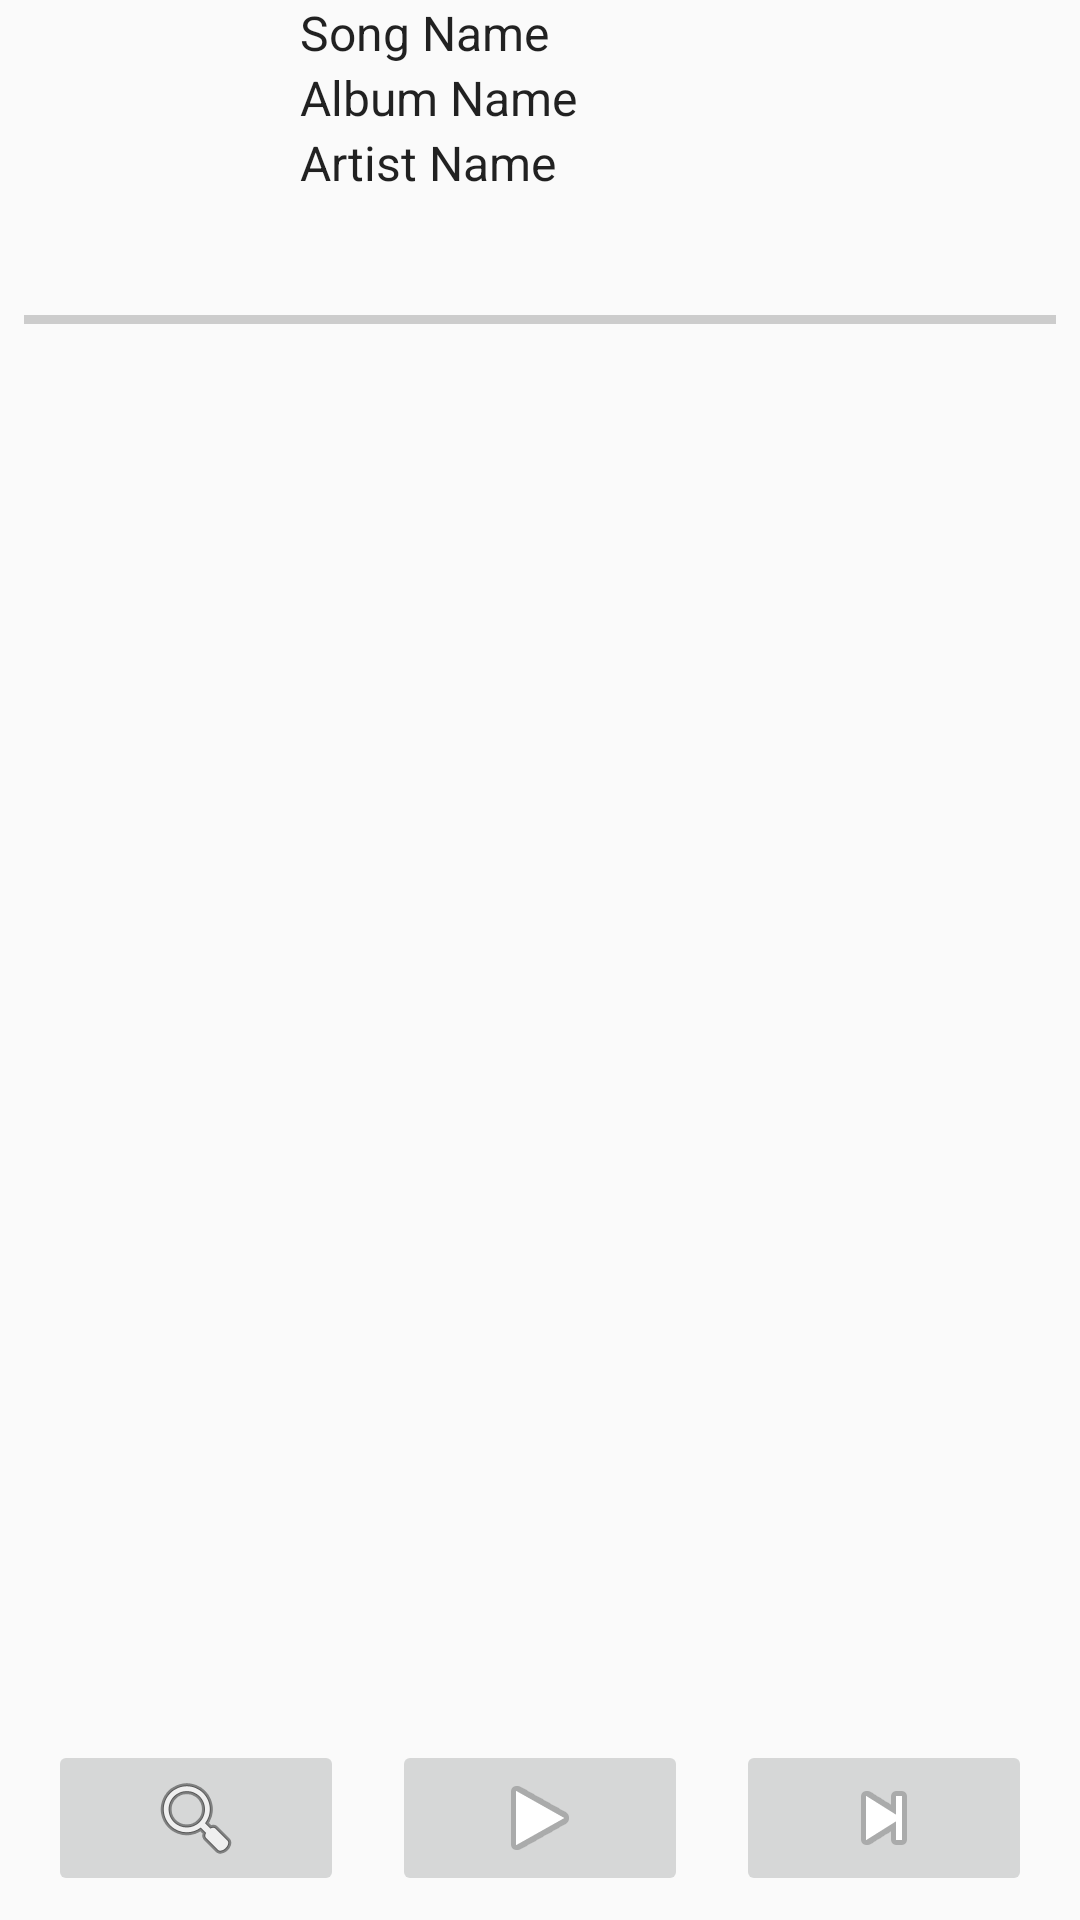

Icon bounding boxes for this 1080*1920 phone screenshot, format (x1, y1, x2, y2):
next: (748, 1758, 1020, 1878)
play: (404, 1758, 676, 1878)
search: (60, 1758, 332, 1878)
